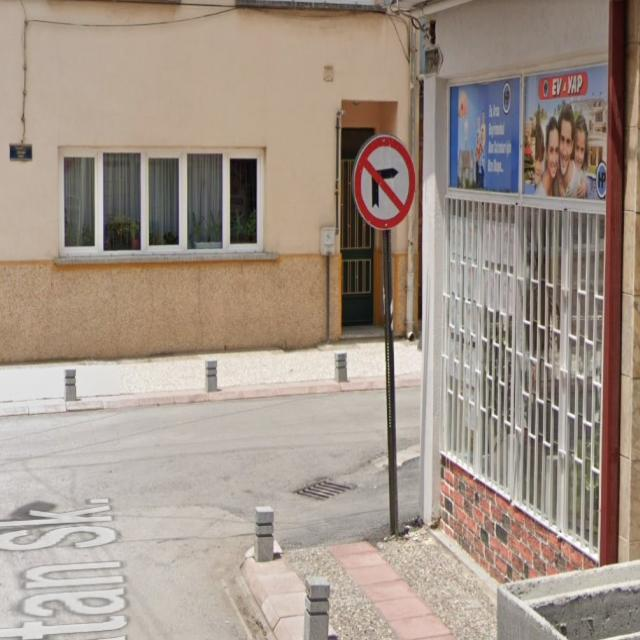sagadonulmez: (354, 134, 415, 232)
